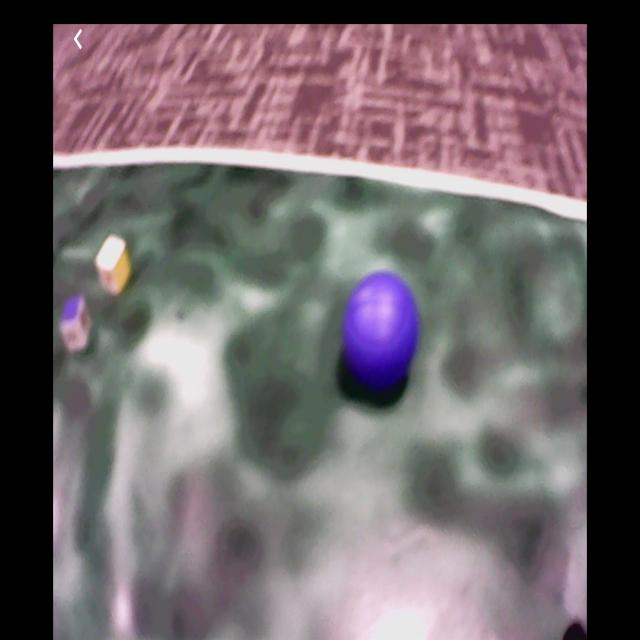ball: (347, 272, 417, 399)
